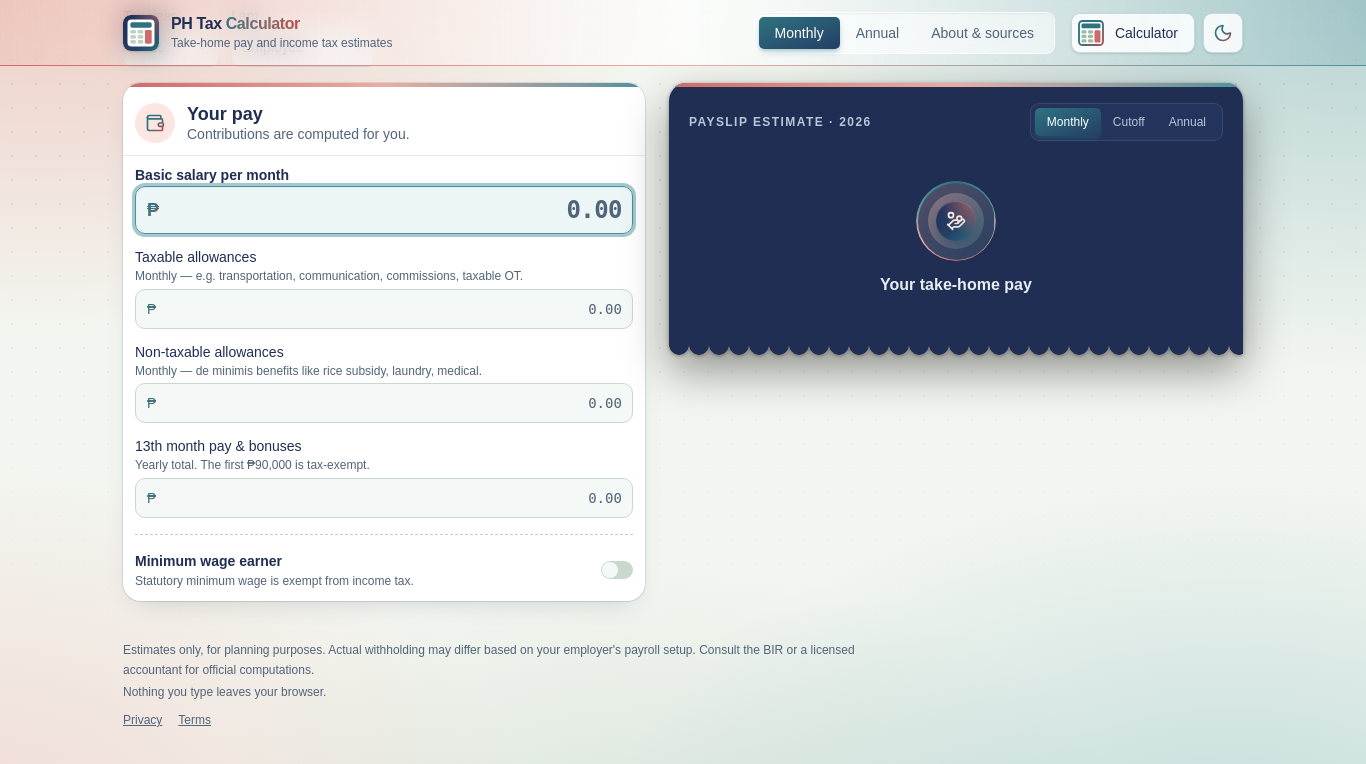
Test: the footer links › lead to Privacy and Terms, and both pages exist
(page scrolled)
Click the link "Privacy" at point(143, 720), box [123, 713, 162, 727]
(page scrolled)
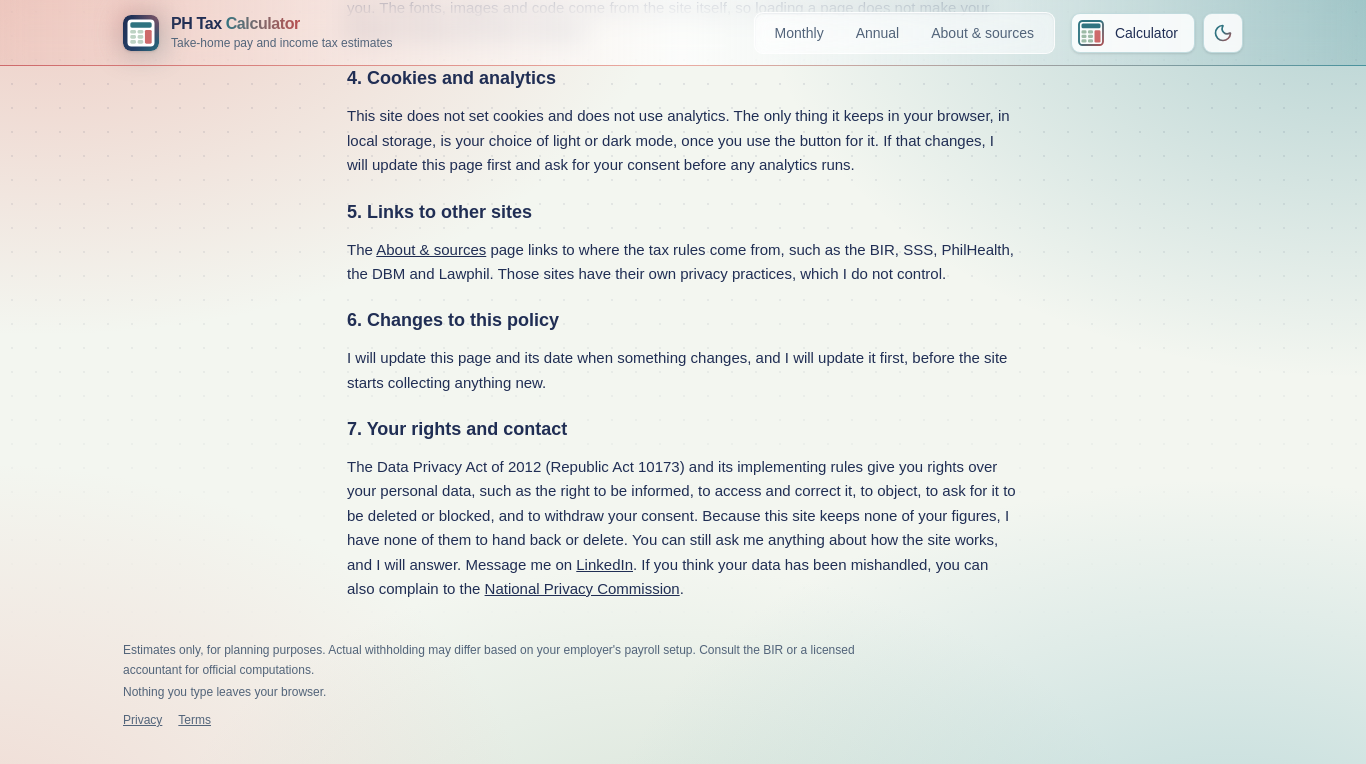
Click the link "Terms" at point(195, 720), box [178, 713, 211, 727]
(page scrolled)
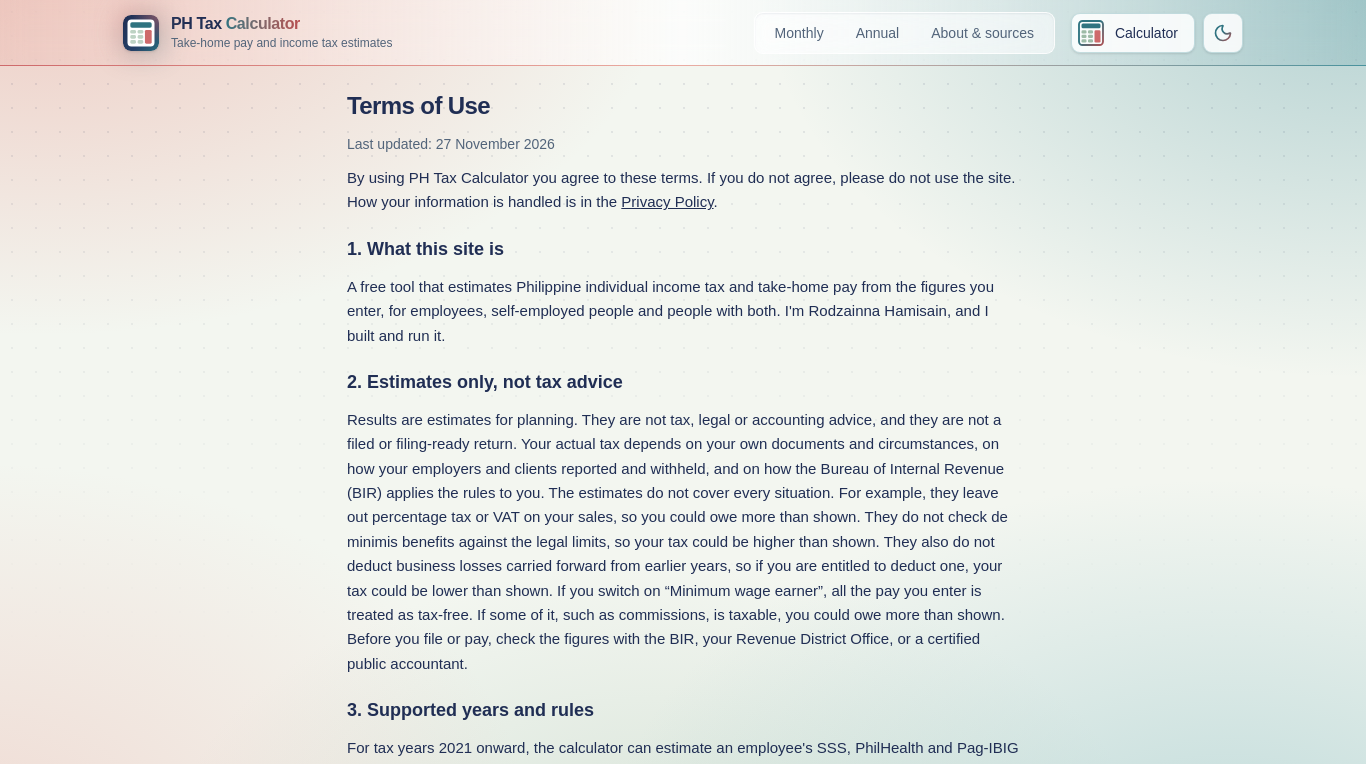
expect the heading "Terms of Use" is shown: met, box [347, 92, 490, 119]
